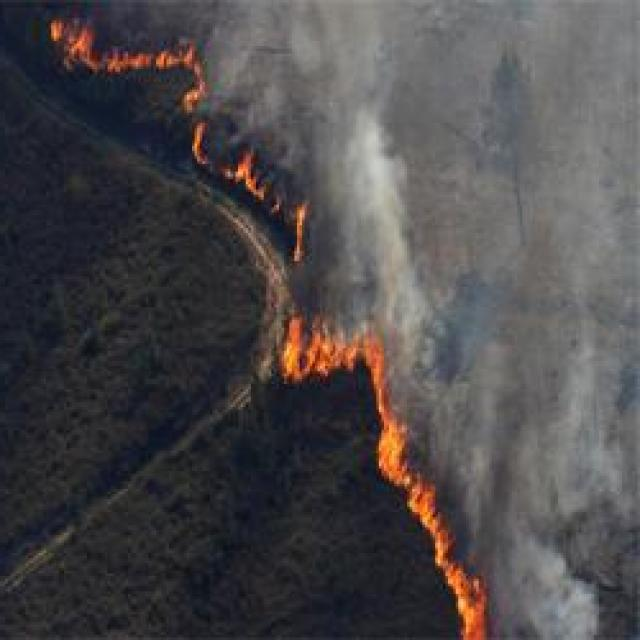fire: (274, 326, 376, 381), (443, 571, 491, 640), (376, 424, 410, 484)
smoke: (494, 341, 640, 637), (210, 0, 424, 104), (345, 114, 411, 294)
